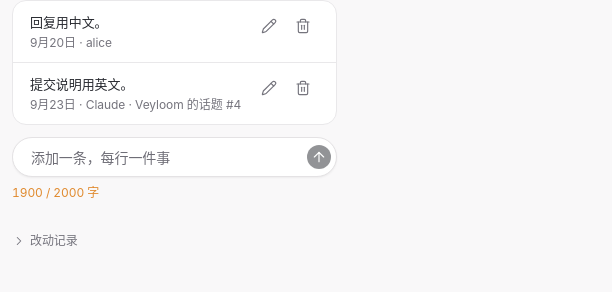
Test case: MemoryEditor › says why a save was refused, in words, and how full it is when nearly full
This screenshot has width=612, height=292.
Check: the text "1900 / 2000 字" is shown, box left=12, top=185, right=99, bottom=200
Type "再加一条。" into the field named "新的一条".
click(163, 157); type("再加一条。")  # box left=19, top=139, right=307, bottom=175
Then press Enter
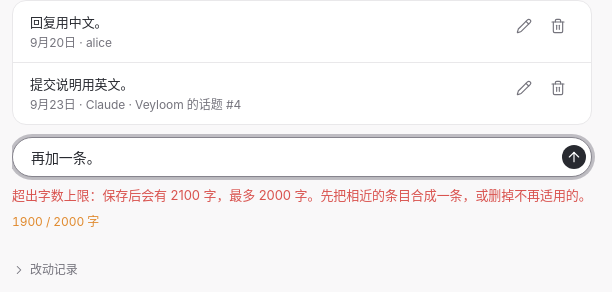
Check: the message shows "超出字数上限：保存后会有 2100 字，最多 2000 字。", box left=12, top=187, right=592, bottom=203
